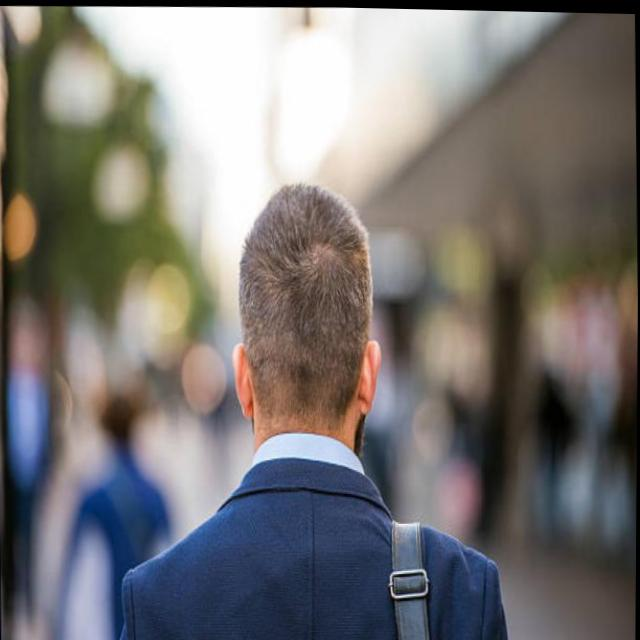no helmet: (226, 176, 382, 431)
